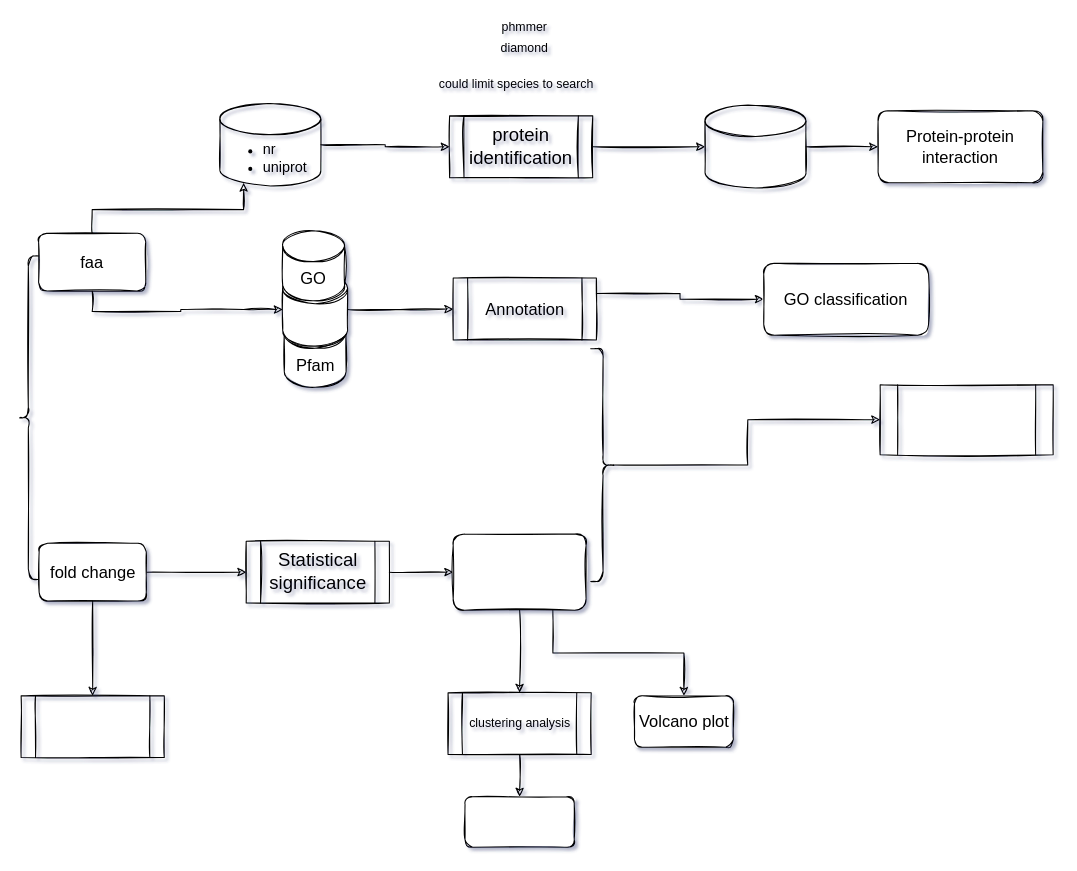
The diagram is 1077 pixels wide and 871 high, and some of its shapes have lost their labels. The centre of each missing label's shape, as x and y in pixels:
"Differentially expressed proteins" belongs at (519,571).
"Functional enrichment" belongs at (966,419).
"Gene Set Enrichement Analysis (GSEA)" belongs at (92,726).
"heat map" belongs at (519,821).
"KEGG" belongs at (315,309).
"STRING" belongs at (755,146).
